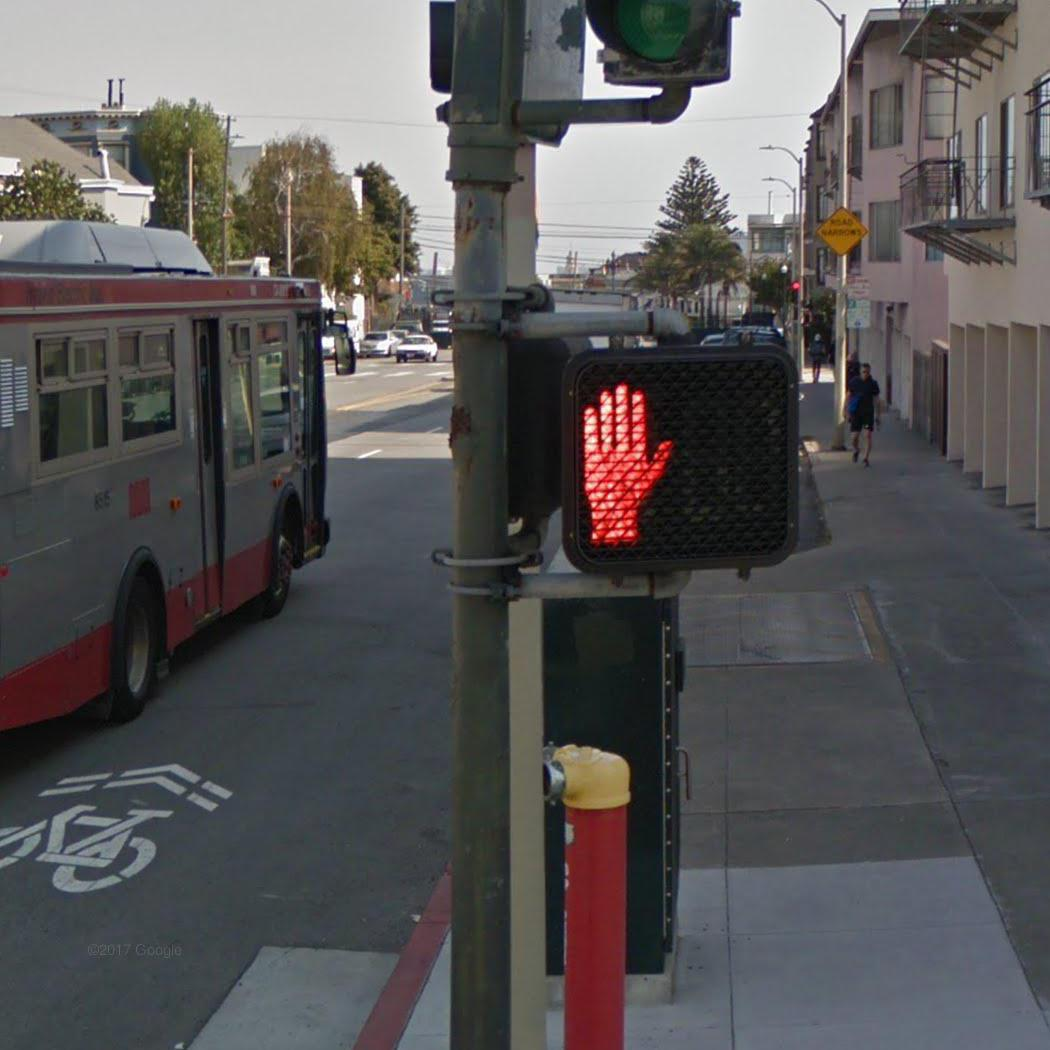2 Hour Parking: (843, 298, 873, 328)
No Parking: (845, 276, 874, 303)
